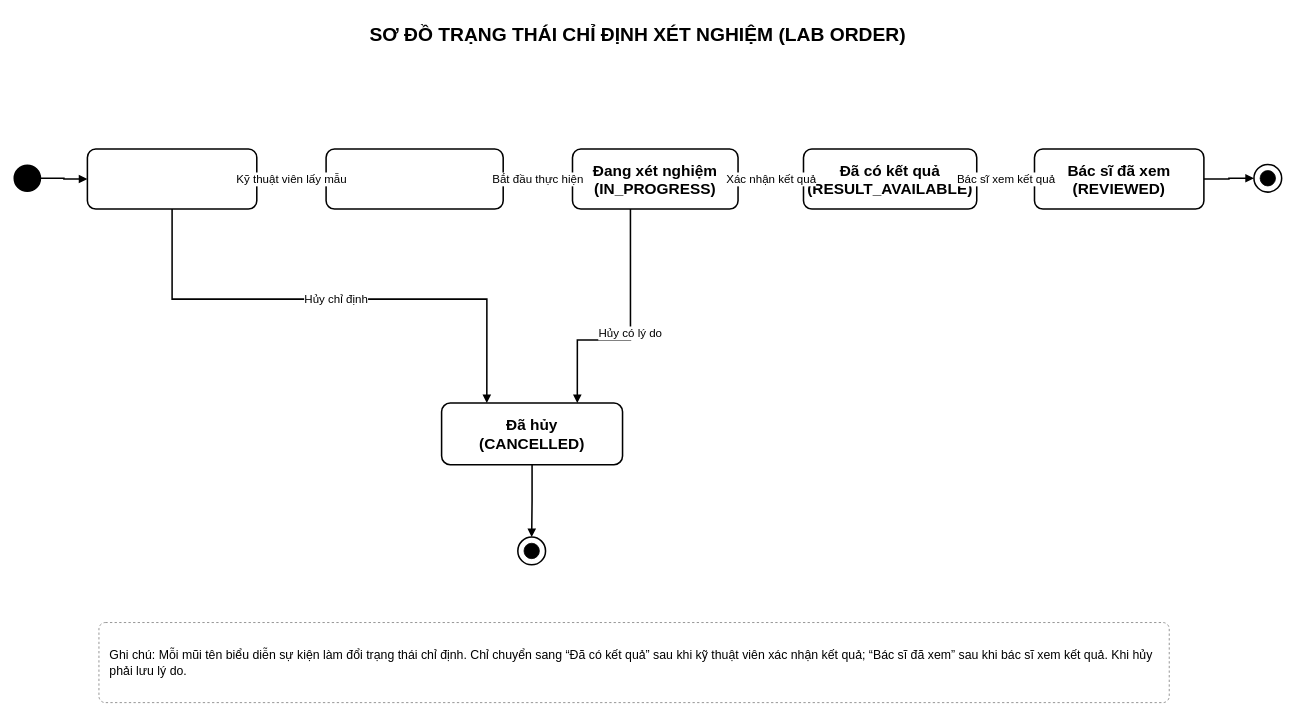
Image size: 1295x716. Some labels were removed from this diagram. The shapes that lost their labels are listed below. From the top down, each one's centre as x and y in pixels, then its label:
At [171,178]: "Đã chỉ định (ORDERED)".
At [414,178]: "Đã lấy mẫu (SAMPLE_COLLECTED)".
